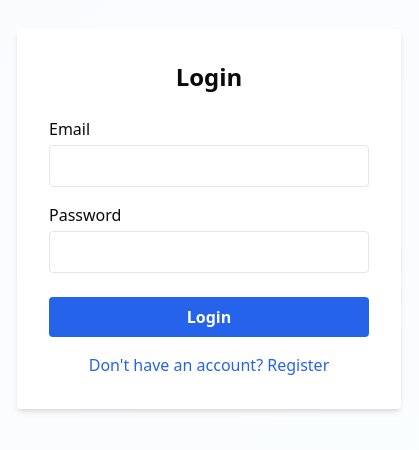
Scenario: Login › shows error message on login failure
This screenshot has width=419, height=450.
Type "test@example.com" into the field at (209, 166), box [49,145,369,187]
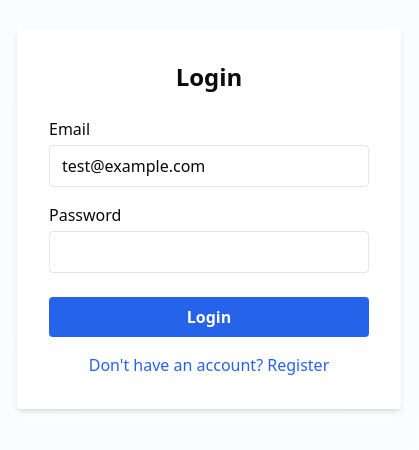
Type "wrongpassword" into the password field at (209, 252), box [49,231,369,273]
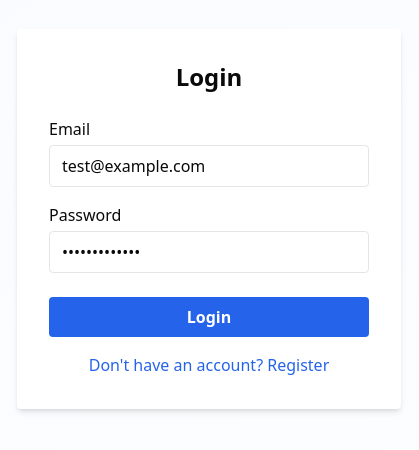
Click the button "Login" at (209, 317), box [49,297,369,337]
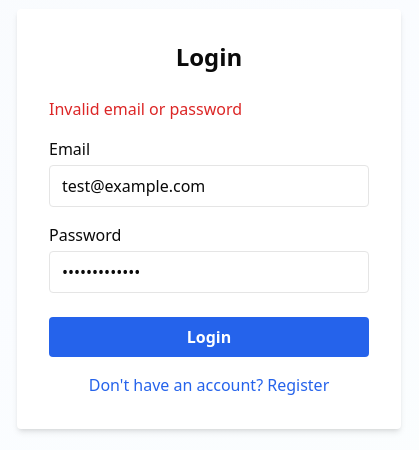
Expected: the text "Invalid email or password" is shown, [49,98,242,120]
